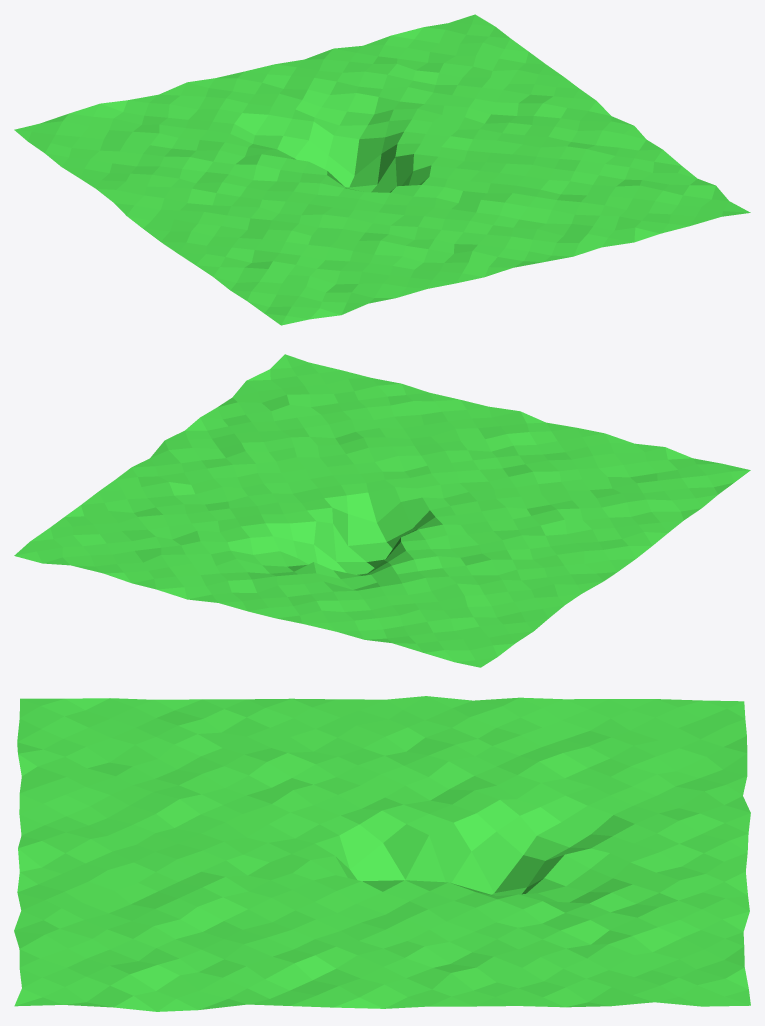
Rendered from Ground-Field.fbx.
The picture shows the model from 3 angles, top to bottom: view 1: azimuth 30°, elevation 25°; view 2: azimuth 150°, elevation 25°; view 3: azimuth 270°, elevation 25°; orthographic projection. The views are drawn at different scales.
Visible parts, largest first — view 1: Plane; view 2: Plane; view 3: Plane.
Part boxes in pixels (bbox=[...]): Plane: bbox=[14, 14, 750, 325]; Plane: bbox=[14, 354, 750, 667]; Plane: bbox=[14, 696, 750, 1011].
Size of the model in its own units: 28038 by 2559 by 28038.
